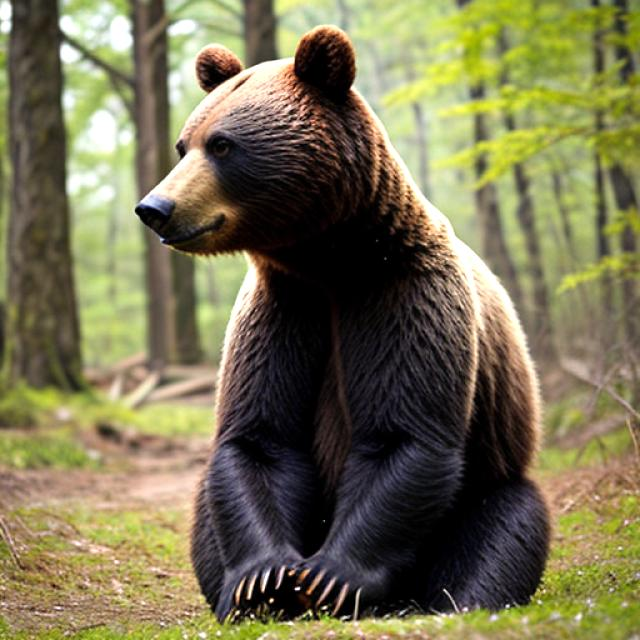bear: (97, 24, 574, 620)
